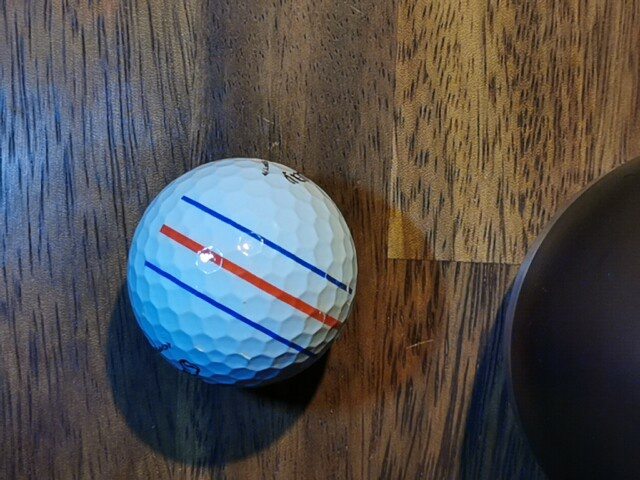Ball: (127, 158, 358, 387)
